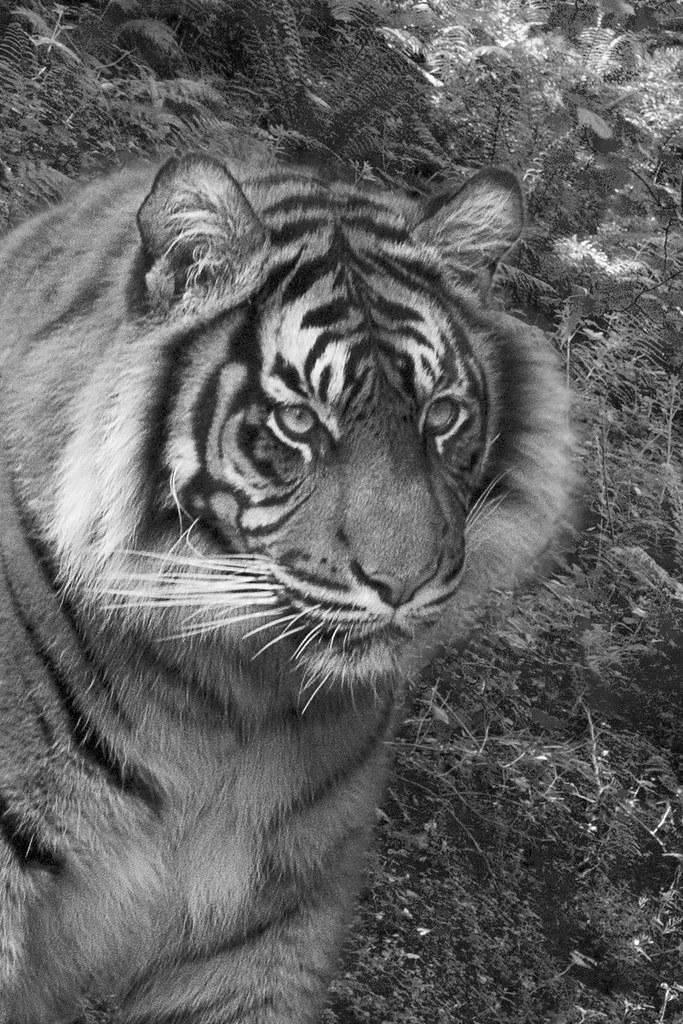tiger: (1, 149, 588, 1022)
